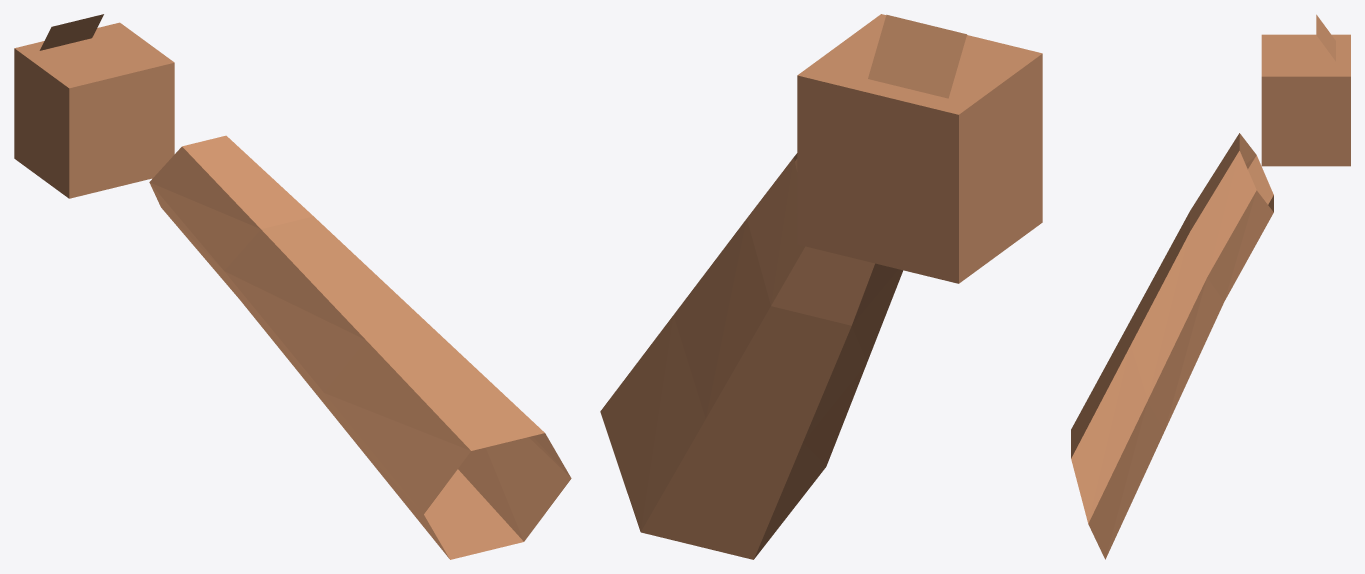
Rendered from viewmodel_arm.obj.
3 renders of one model, left to right at view 1: azimuth 30°, elevation 25°; view 2: azimuth 150°, elevation 25°; view 3: azimuth 270°, elevation 25°, orthographic. The views are drawn at different scales.
Visible parts, largest first — view 1: viewmodel_arm; view 2: viewmodel_arm; view 3: viewmodel_arm.
Part boxes in pixels (x1=…): viewmodel_arm: x1=14, y1=14, x2=571, y2=559; viewmodel_arm: x1=600, y1=14, x2=1042, y2=559; viewmodel_arm: x1=1071, y1=14, x2=1350, y2=559.
Size of the model in its own units: 0.375 by 0.4563 by 0.2823.
